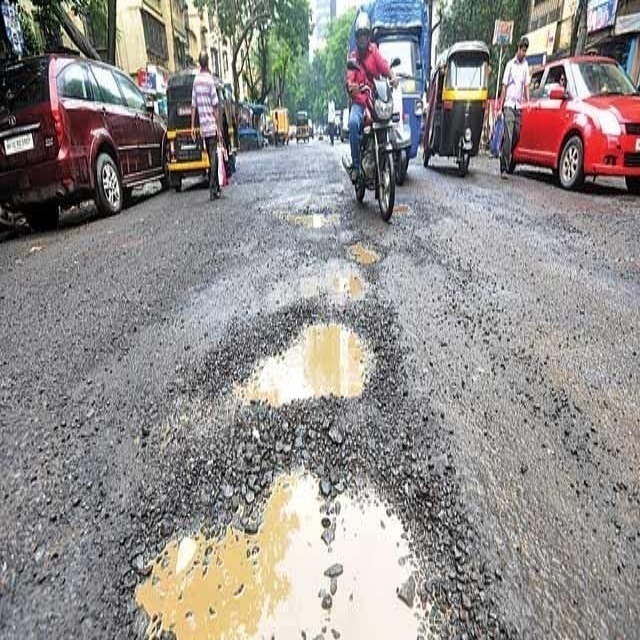pothole: (202, 450, 415, 640), (259, 296, 387, 408), (316, 237, 367, 294), (290, 205, 338, 227)
